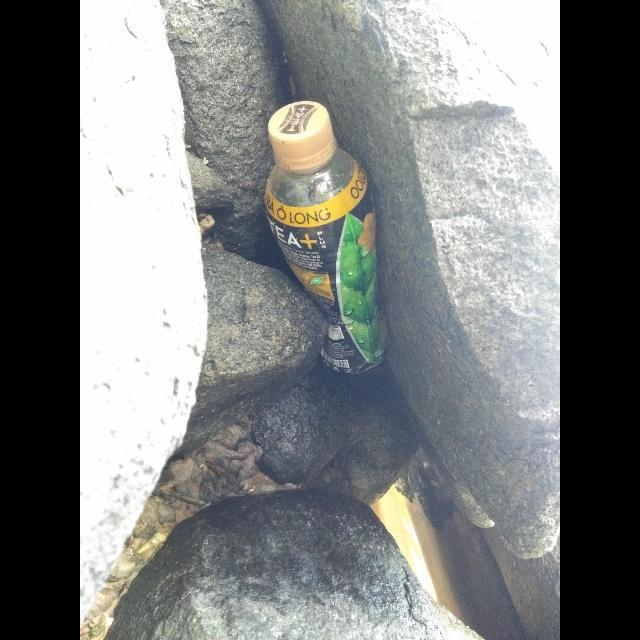Plastic: (265, 102, 391, 374), (268, 101, 334, 161)
